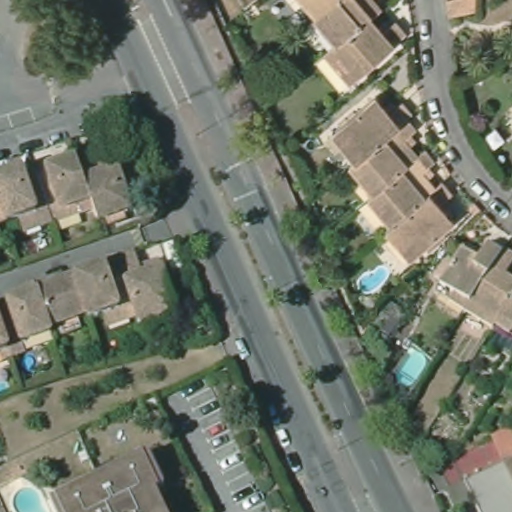pool: (388, 344, 426, 390), (352, 263, 391, 297), (7, 481, 48, 511), (23, 353, 36, 373), (1, 379, 12, 393)
